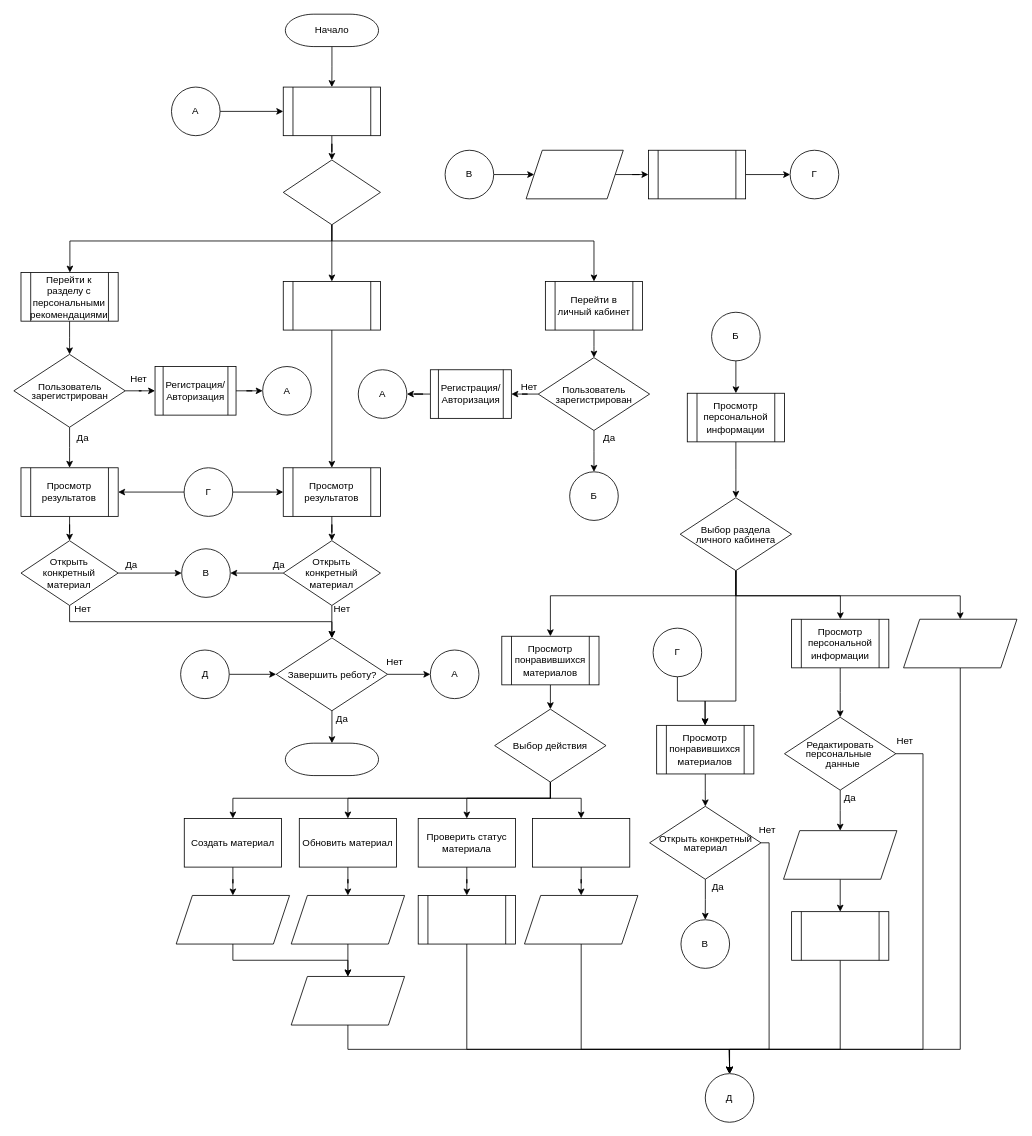
Image size: 1032x1136. Some labels were removed from this diagram. The shapes that lost their labels are listed below. From the top down, each one's centre as x and y in pixels, then its label:
the point at 331,111: Просмотр главной страницы
the point at 331,192: Выбор раздела приложения
the point at 574,174: Изучение подробной информации
the point at 697,174: Вернуться на предыдущую страницу
the point at 331,305: Искать на главной странице
the point at 960,643: Выход
the point at 332,759: Конец
the point at 581,842: Удалить материал
the point at 840,854: Ввод обновленной информации
the point at 232,919: Заполнить форму
the point at 347,919: Обновить инфолмрацию
the point at 466,919: Взаимодействие с модератором
the point at 581,919: Подтвердить удаление
the point at 840,935: Сохранение персональной информации
the point at 347,1000: Отправить материал на модерацию
